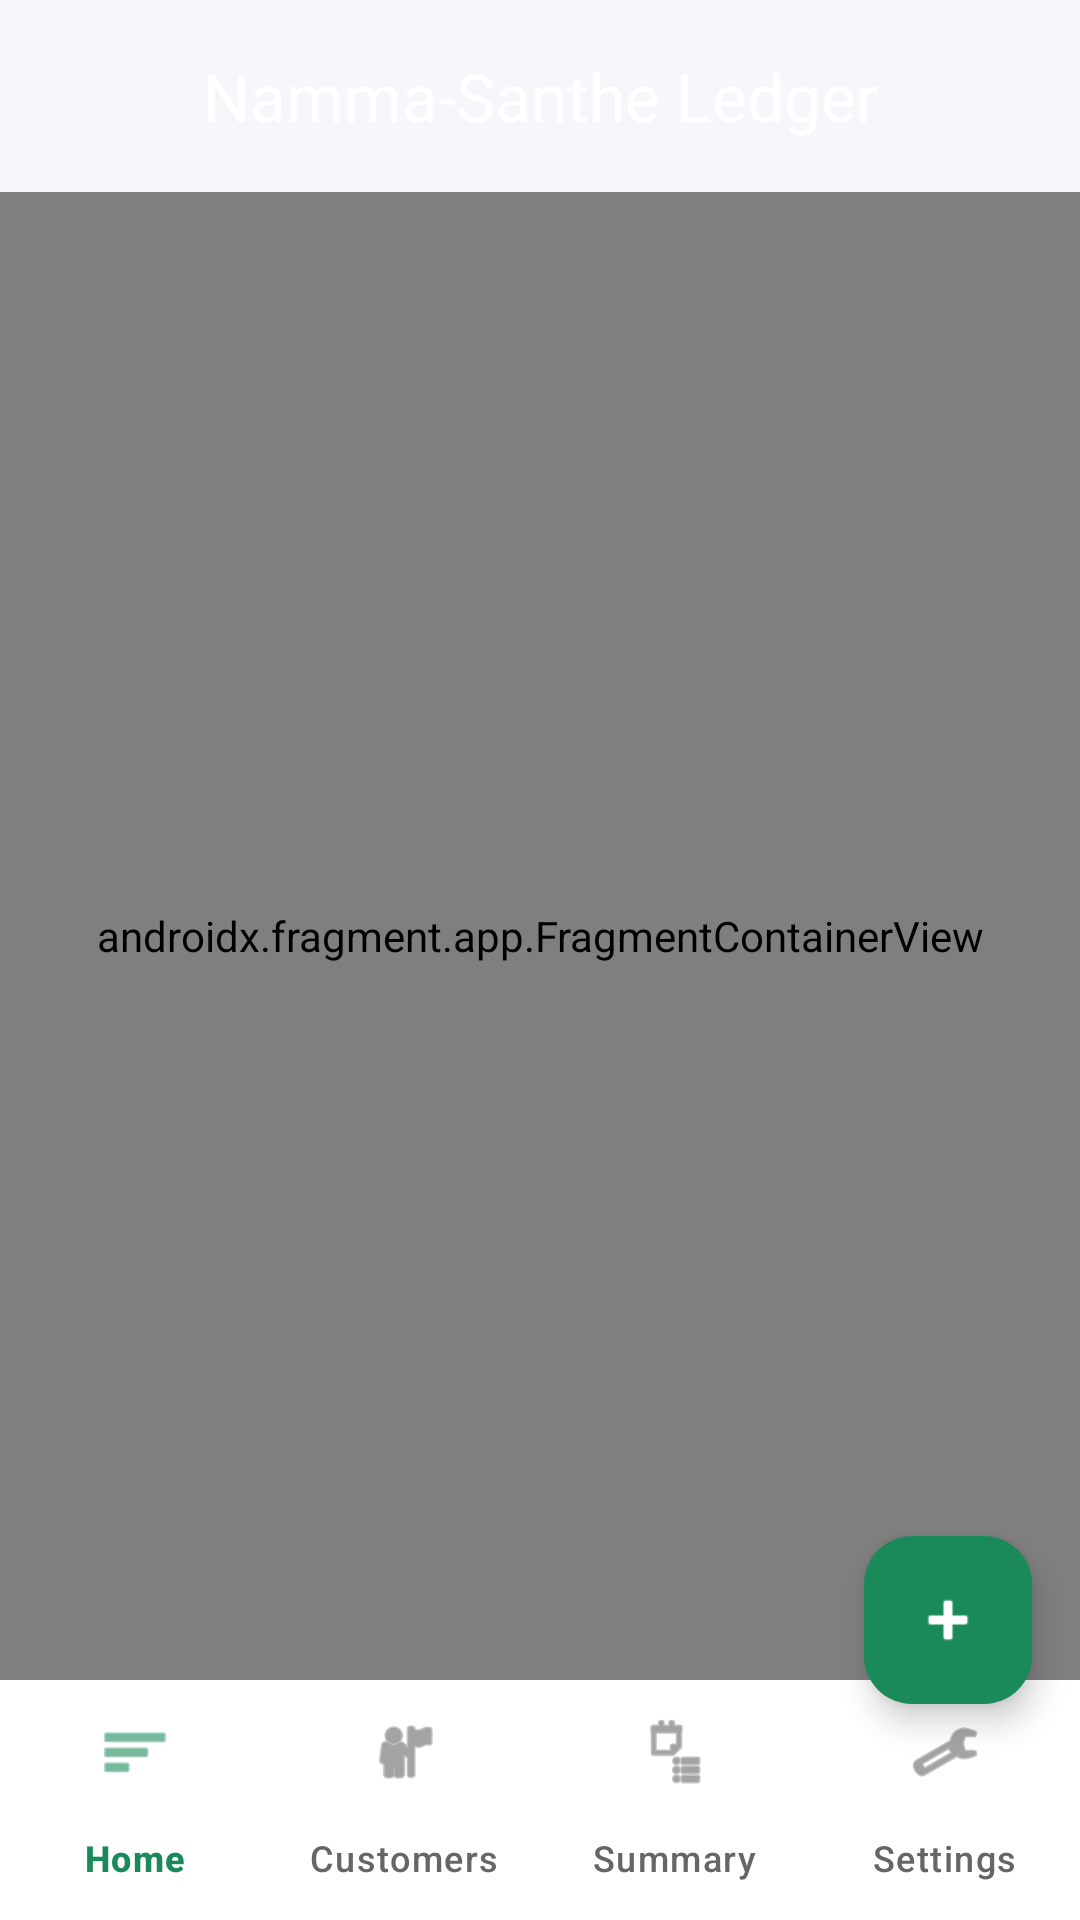

Named icons in this screenshot (1080px×1920px) and their bounding boxes, [x1, y1, x2, y2]:
Quick Actions: [864, 1536, 1032, 1704]
